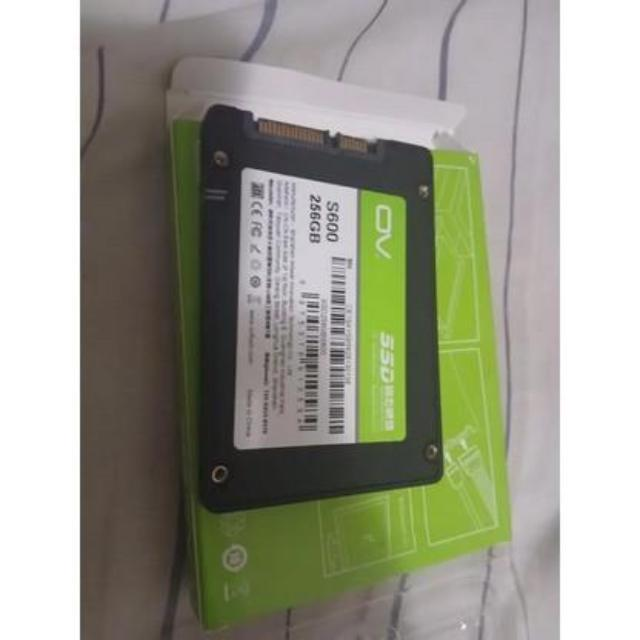DISK: (186, 90, 449, 504)
